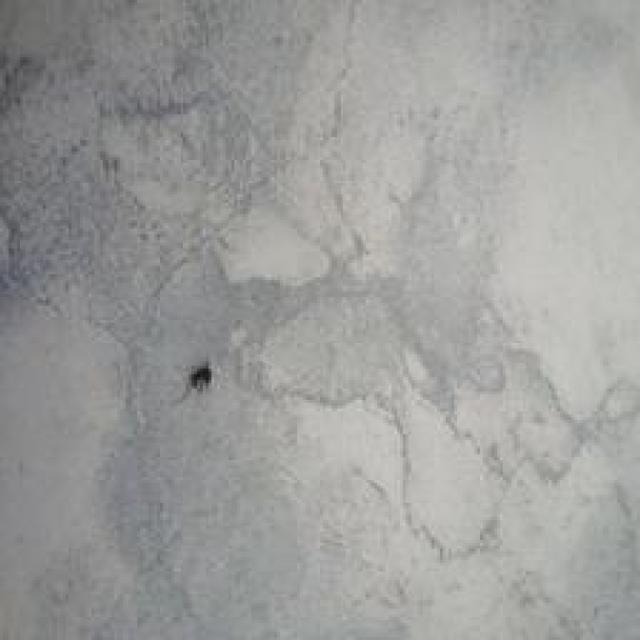Aedes albopictus: (187, 361, 213, 393)
